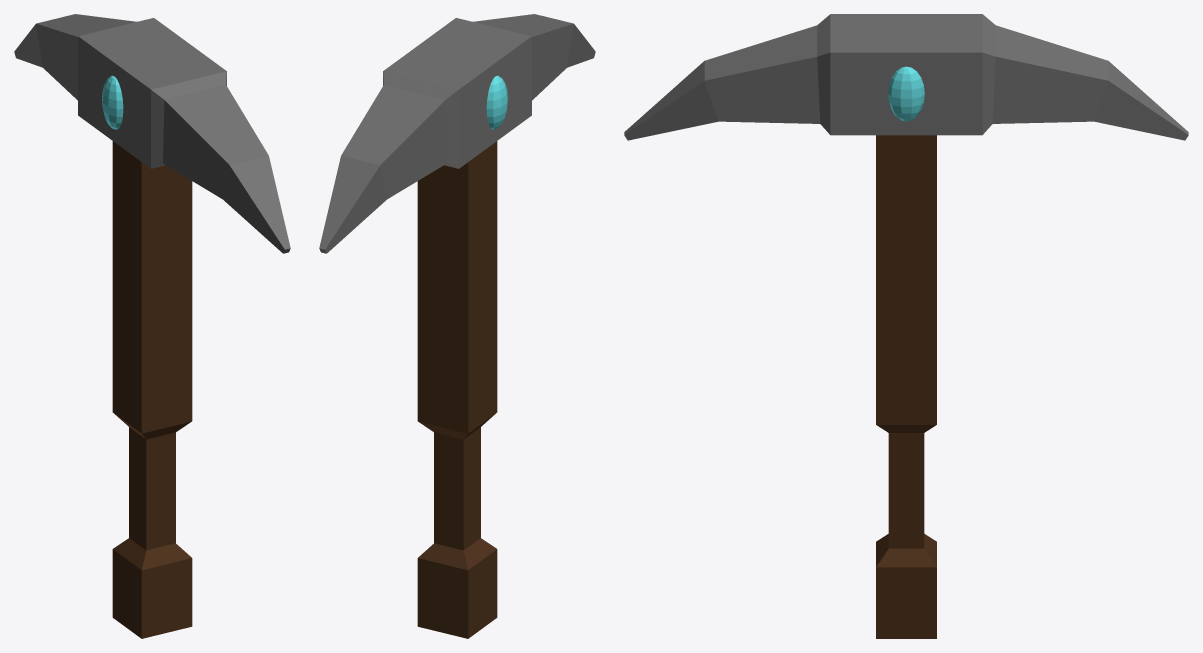
The model's file is Pickaxe.fbx.
The picture shows the model from 3 angles, left to right: view 1: azimuth 30°, elevation 25°; view 2: azimuth 150°, elevation 25°; view 3: azimuth 270°, elevation 25°; orthographic projection. The views are drawn at different scales.
Parts seen in each view (by area): view 1: Cube.001; view 2: Cube.001; view 3: Cube.001.
Boxes of the visible parts, <box> form: Cube.001: <box>14,14,290,638</box>; Cube.001: <box>319,14,595,638</box>; Cube.001: <box>624,14,1188,638</box>.
Bounding box in the file's own units: 74.4 × 430 × 371.
